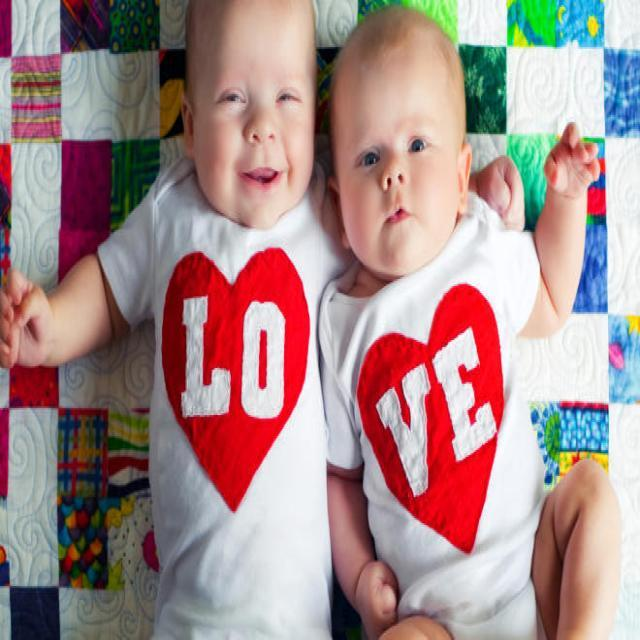non-dog: (1, 0, 352, 640), (316, 4, 624, 640)
